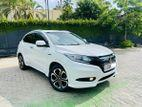car: (17, 29, 118, 92)
